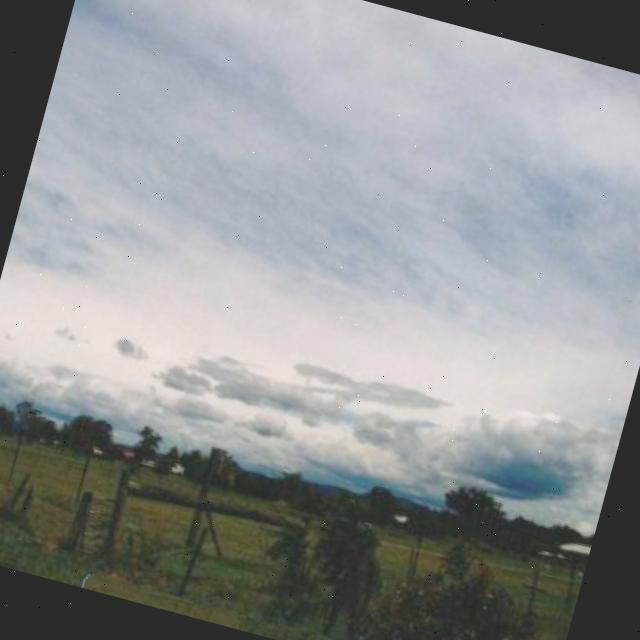Cs: (1, 1, 640, 511)
